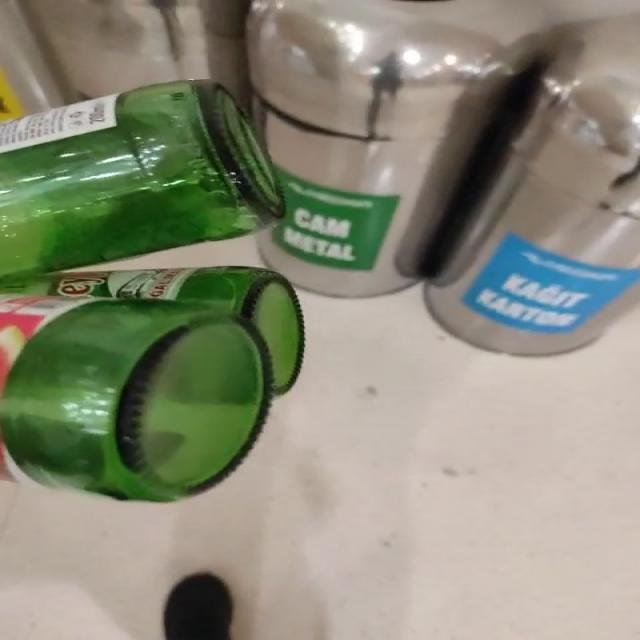glass: (0, 80, 304, 503)
